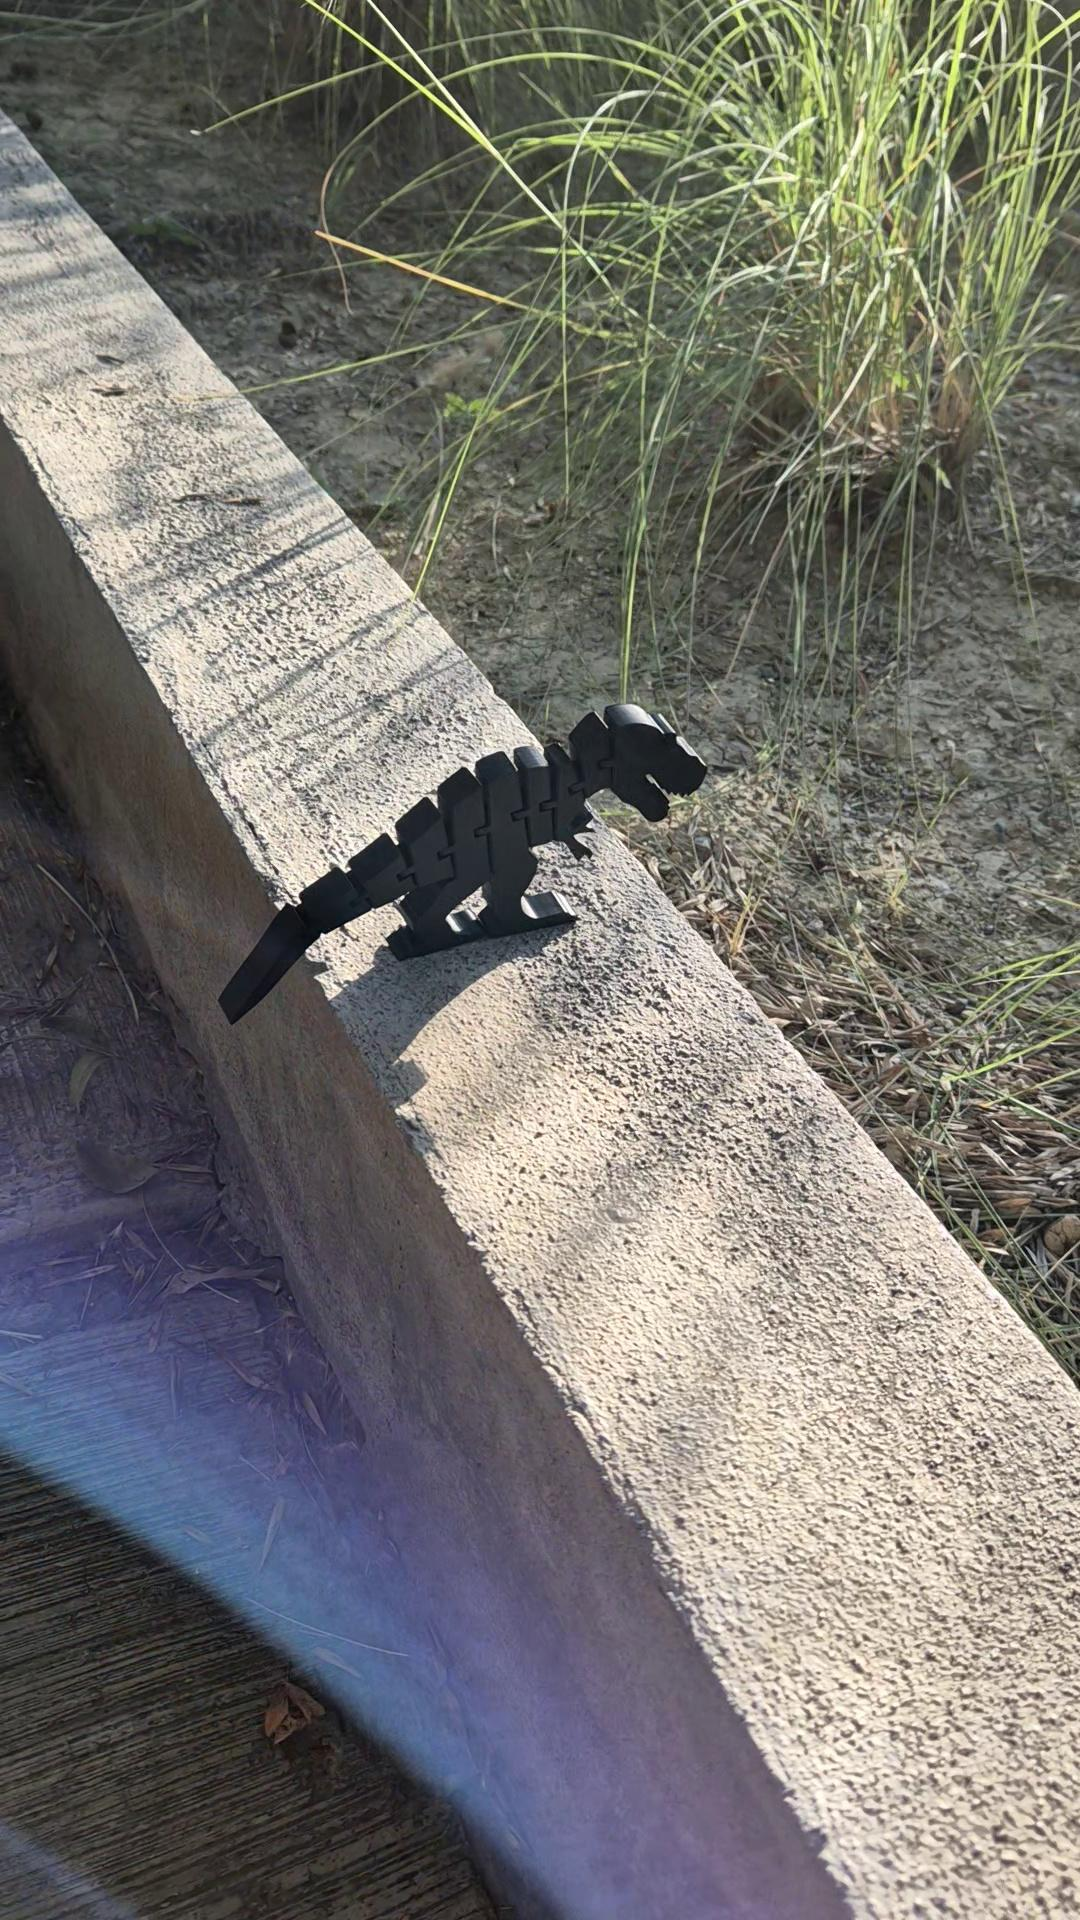dinosaur: (215, 699, 709, 1029)
